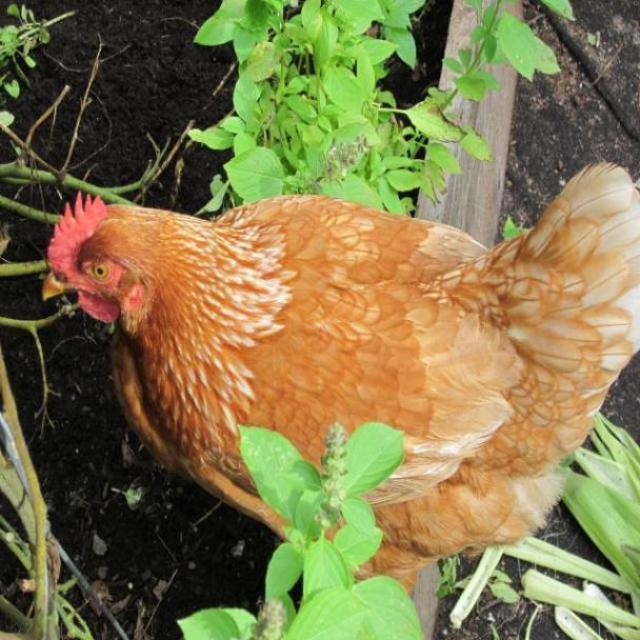Chicken: (42, 163, 639, 586)
